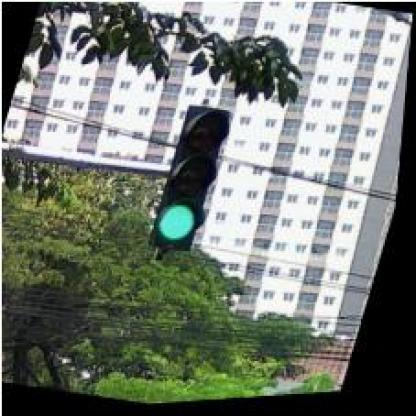green: (147, 103, 238, 260)
